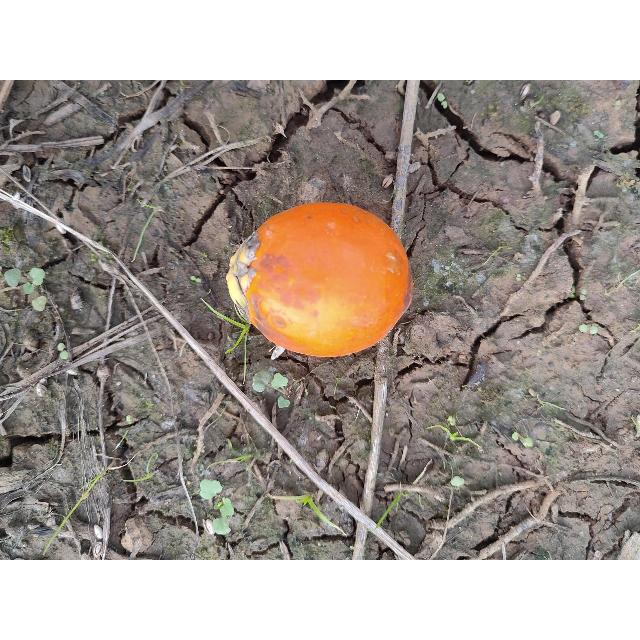good: (227, 203, 412, 360)
